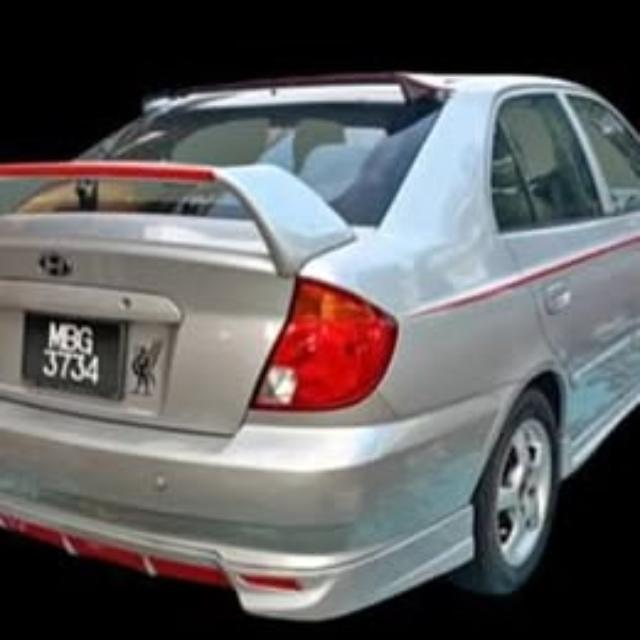License_Plate: (22, 309, 127, 400)
car: (2, 71, 639, 624)
